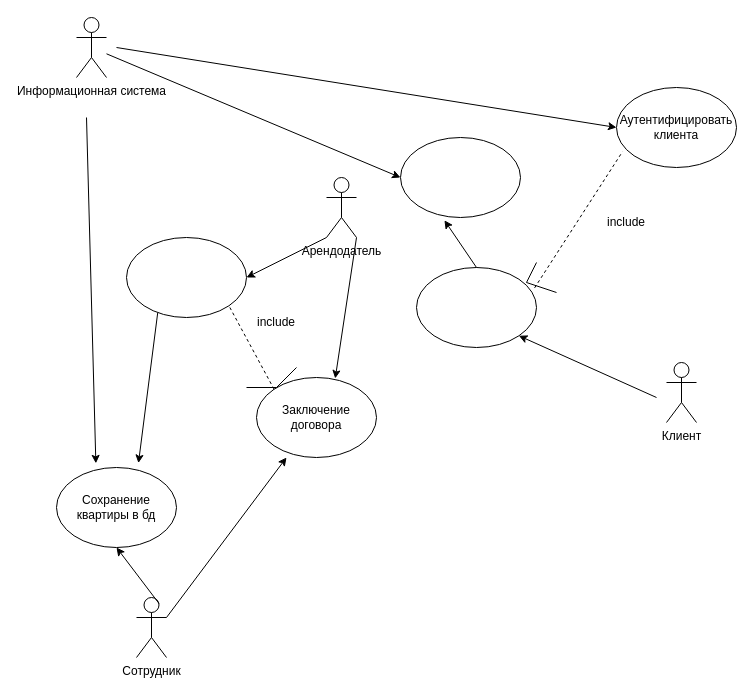
The diagram is 754 pixels wide and 696 high, and some of its shapes have lost their labels. The box of each missing label's shape, as (x1, y1, x2, y2) in pixels:
Оплата аренды квартиры: (416, 266, 536, 348)
Предоставление информации о квартире: (126, 236, 246, 318)
Сохранение пользователя с арендованной квартирой в бд: (400, 136, 520, 218)
